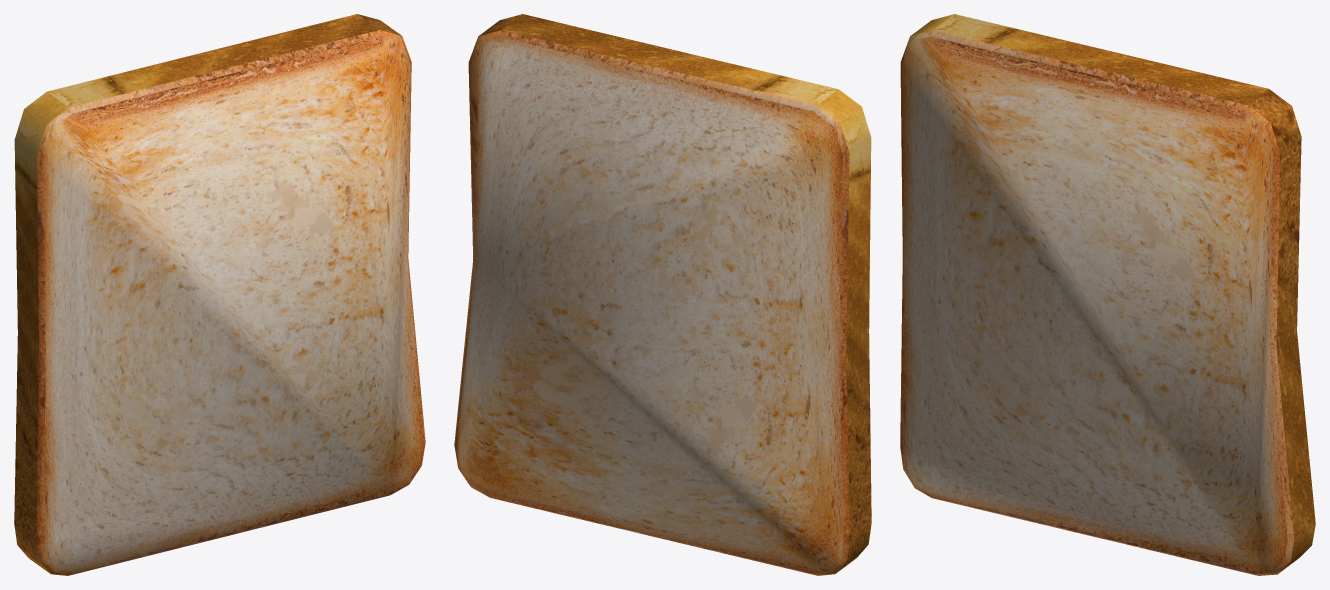
The model's file is BREAD.fbx.
The picture shows the model from 3 angles, left to right: view 1: azimuth 30°, elevation 25°; view 2: azimuth 150°, elevation 25°; view 3: azimuth 330°, elevation 25°; orthographic projection.
Visible parts, largest first — view 1: Cube.001; view 2: Cube.001; view 3: Cube.001.
Part boxes in pixels (bbox=[...]): Cube.001: bbox=[14, 14, 425, 575]; Cube.001: bbox=[454, 14, 871, 575]; Cube.001: bbox=[900, 14, 1315, 575].
Bounding box in the file's own units: 13.47 × 15.37 × 1.79.
